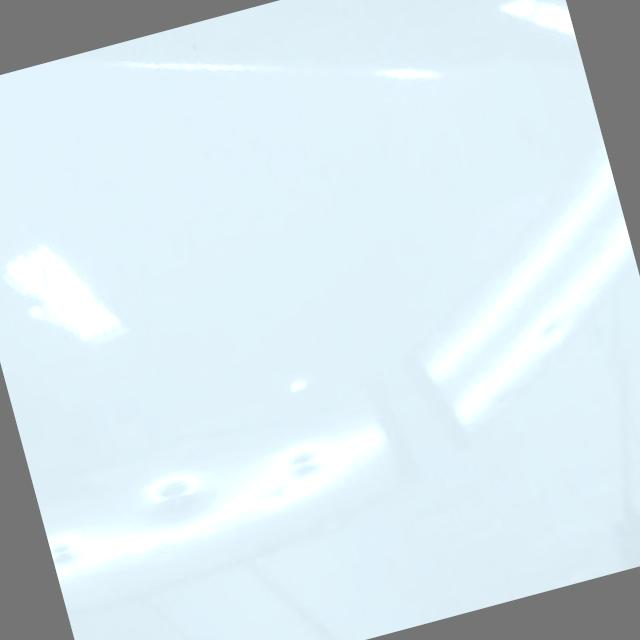dent: (144, 472, 198, 508), (282, 444, 326, 482), (50, 540, 86, 576), (256, 482, 290, 508), (286, 376, 316, 401), (536, 322, 566, 344)
